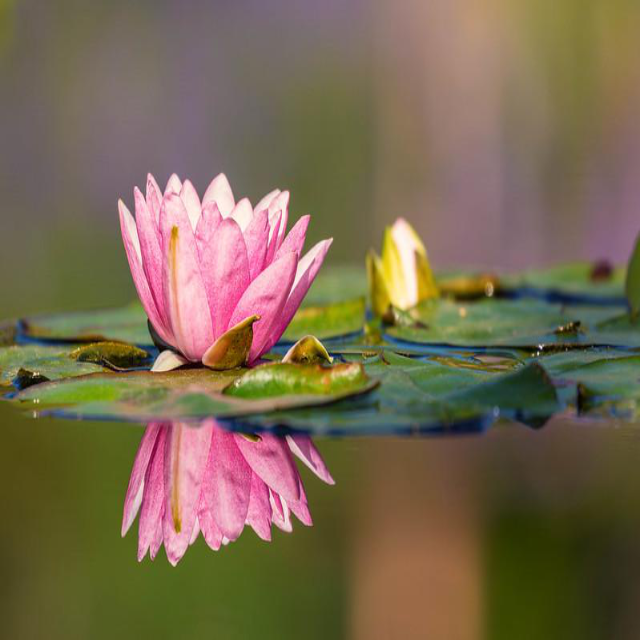water_lily: (117, 169, 336, 372)
